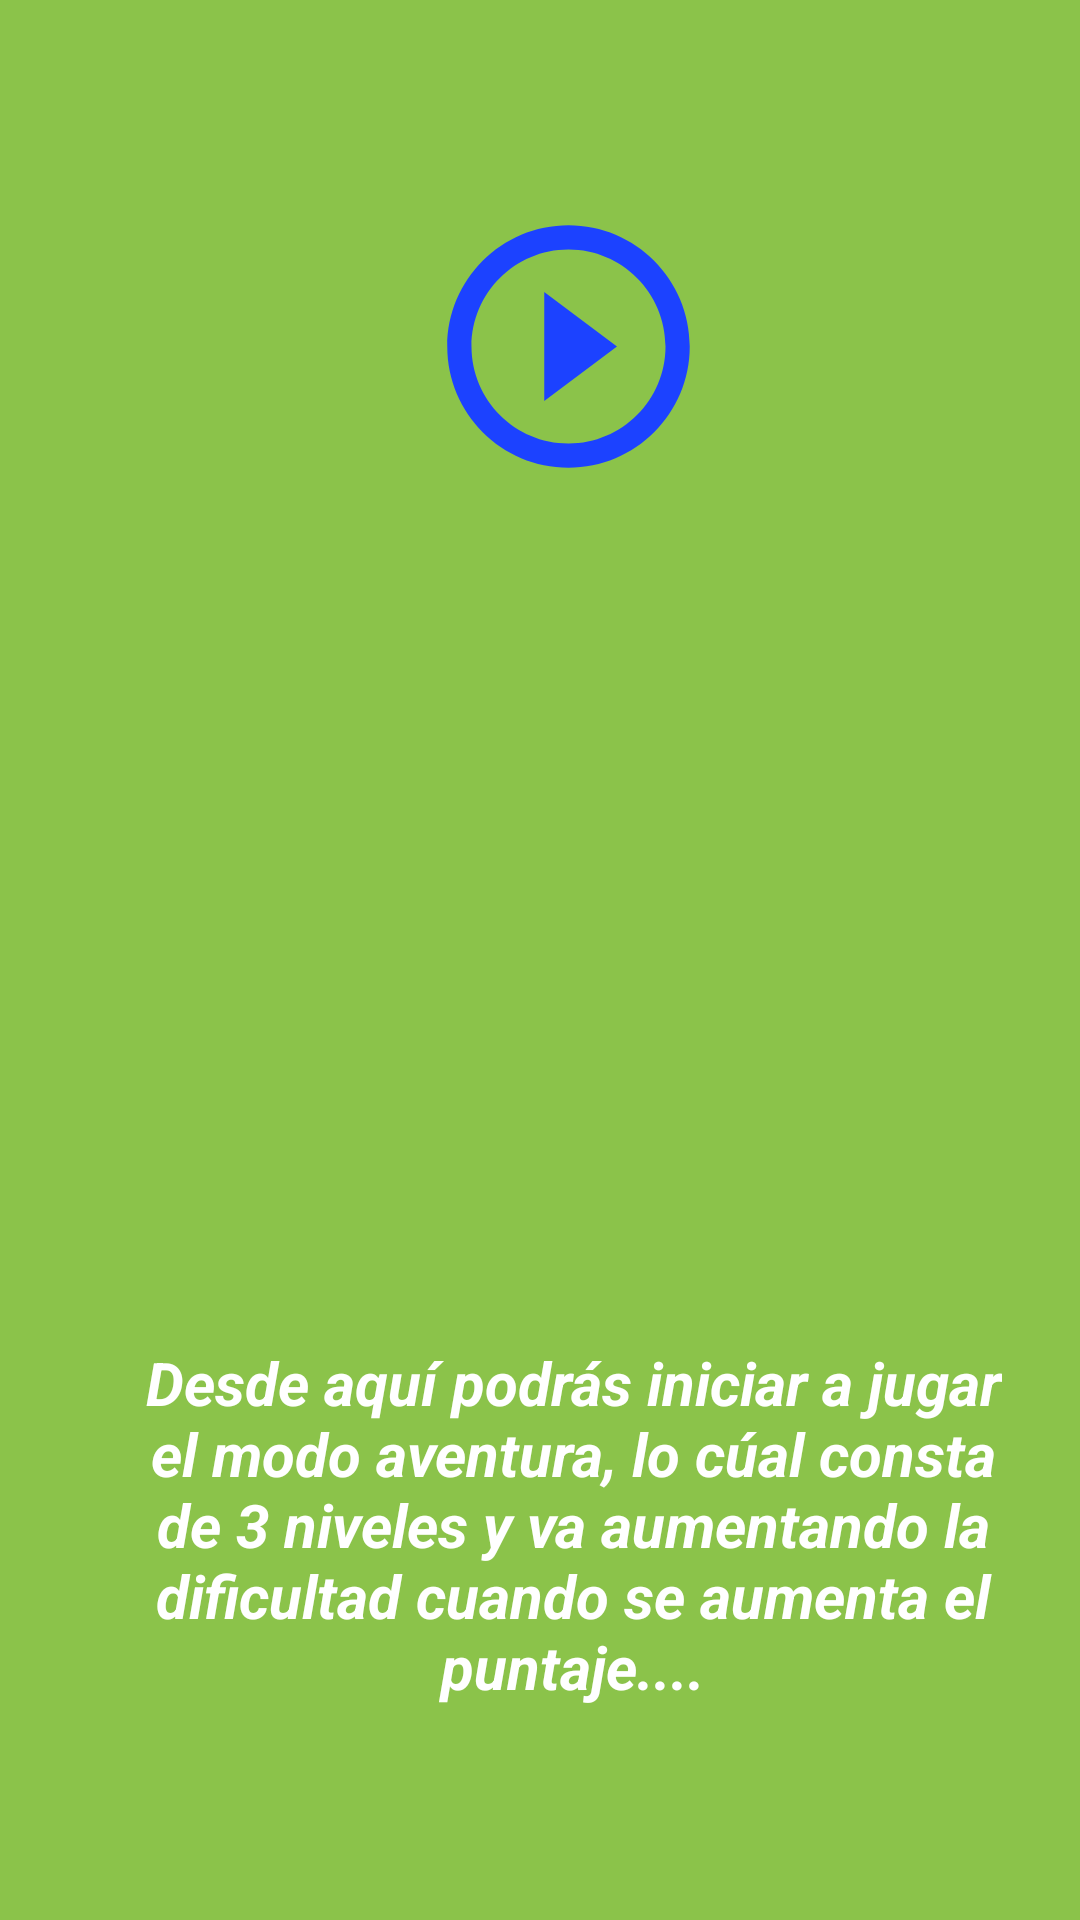

Icon bounding boxes for this 1080px×1920px phone screenshot, format (x1, y1, x2, y2):
play circle: (447, 225, 690, 468)
